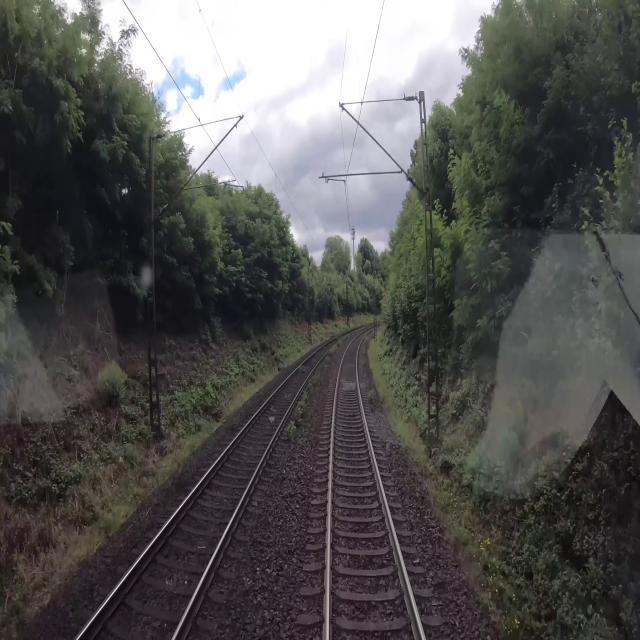Plant: (286, 345, 337, 448)
